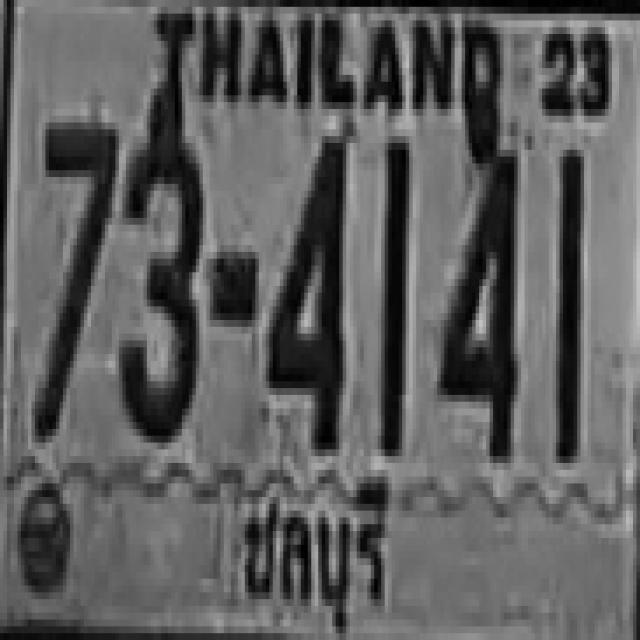1: (378, 136, 406, 450), (552, 143, 580, 449)
3: (116, 116, 200, 436)
4: (435, 112, 516, 453), (266, 130, 343, 442)
7: (35, 112, 115, 432)
Chonburi: (232, 475, 409, 640)
